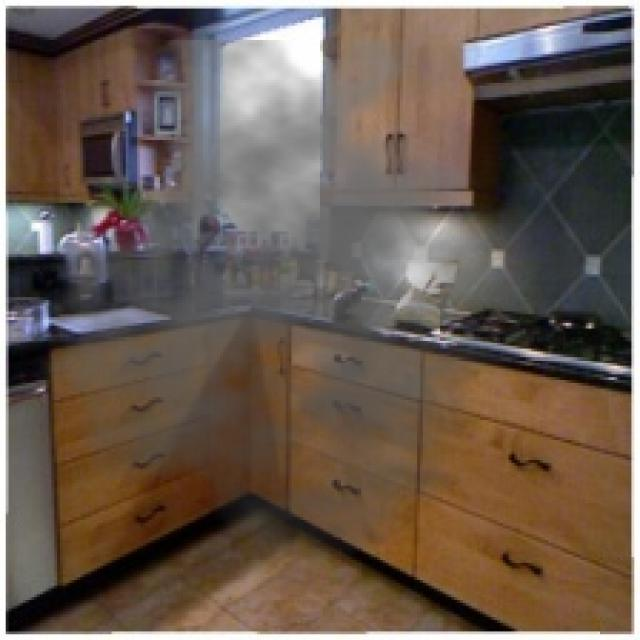smoke: (32, 40, 554, 560)
